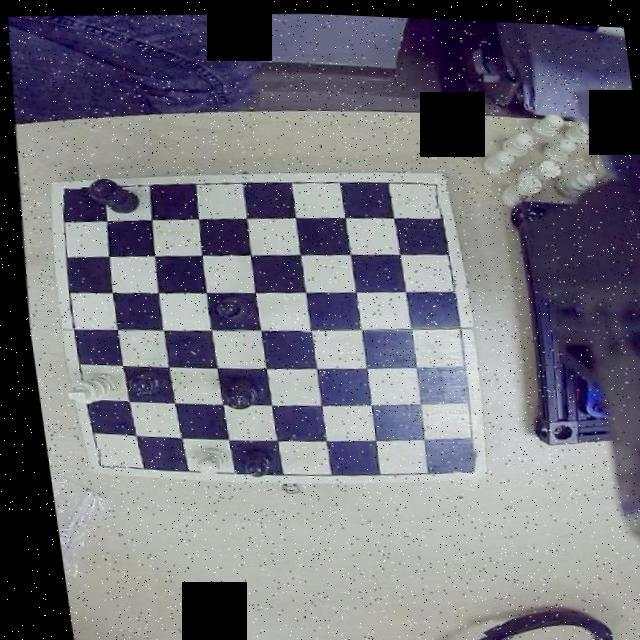chess-table-corners: (408, 170, 444, 205), (442, 442, 476, 478), (78, 446, 111, 475), (49, 179, 80, 209)
